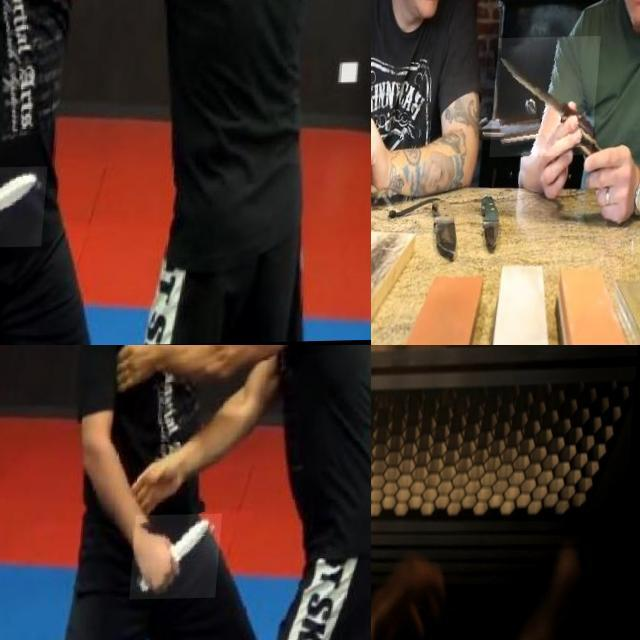-: (496, 38, 606, 158), (139, 515, 229, 600), (0, 167, 56, 249)
gun-knife-thesis - v11 Yolov5 augmented: (371, 345, 403, 412)
